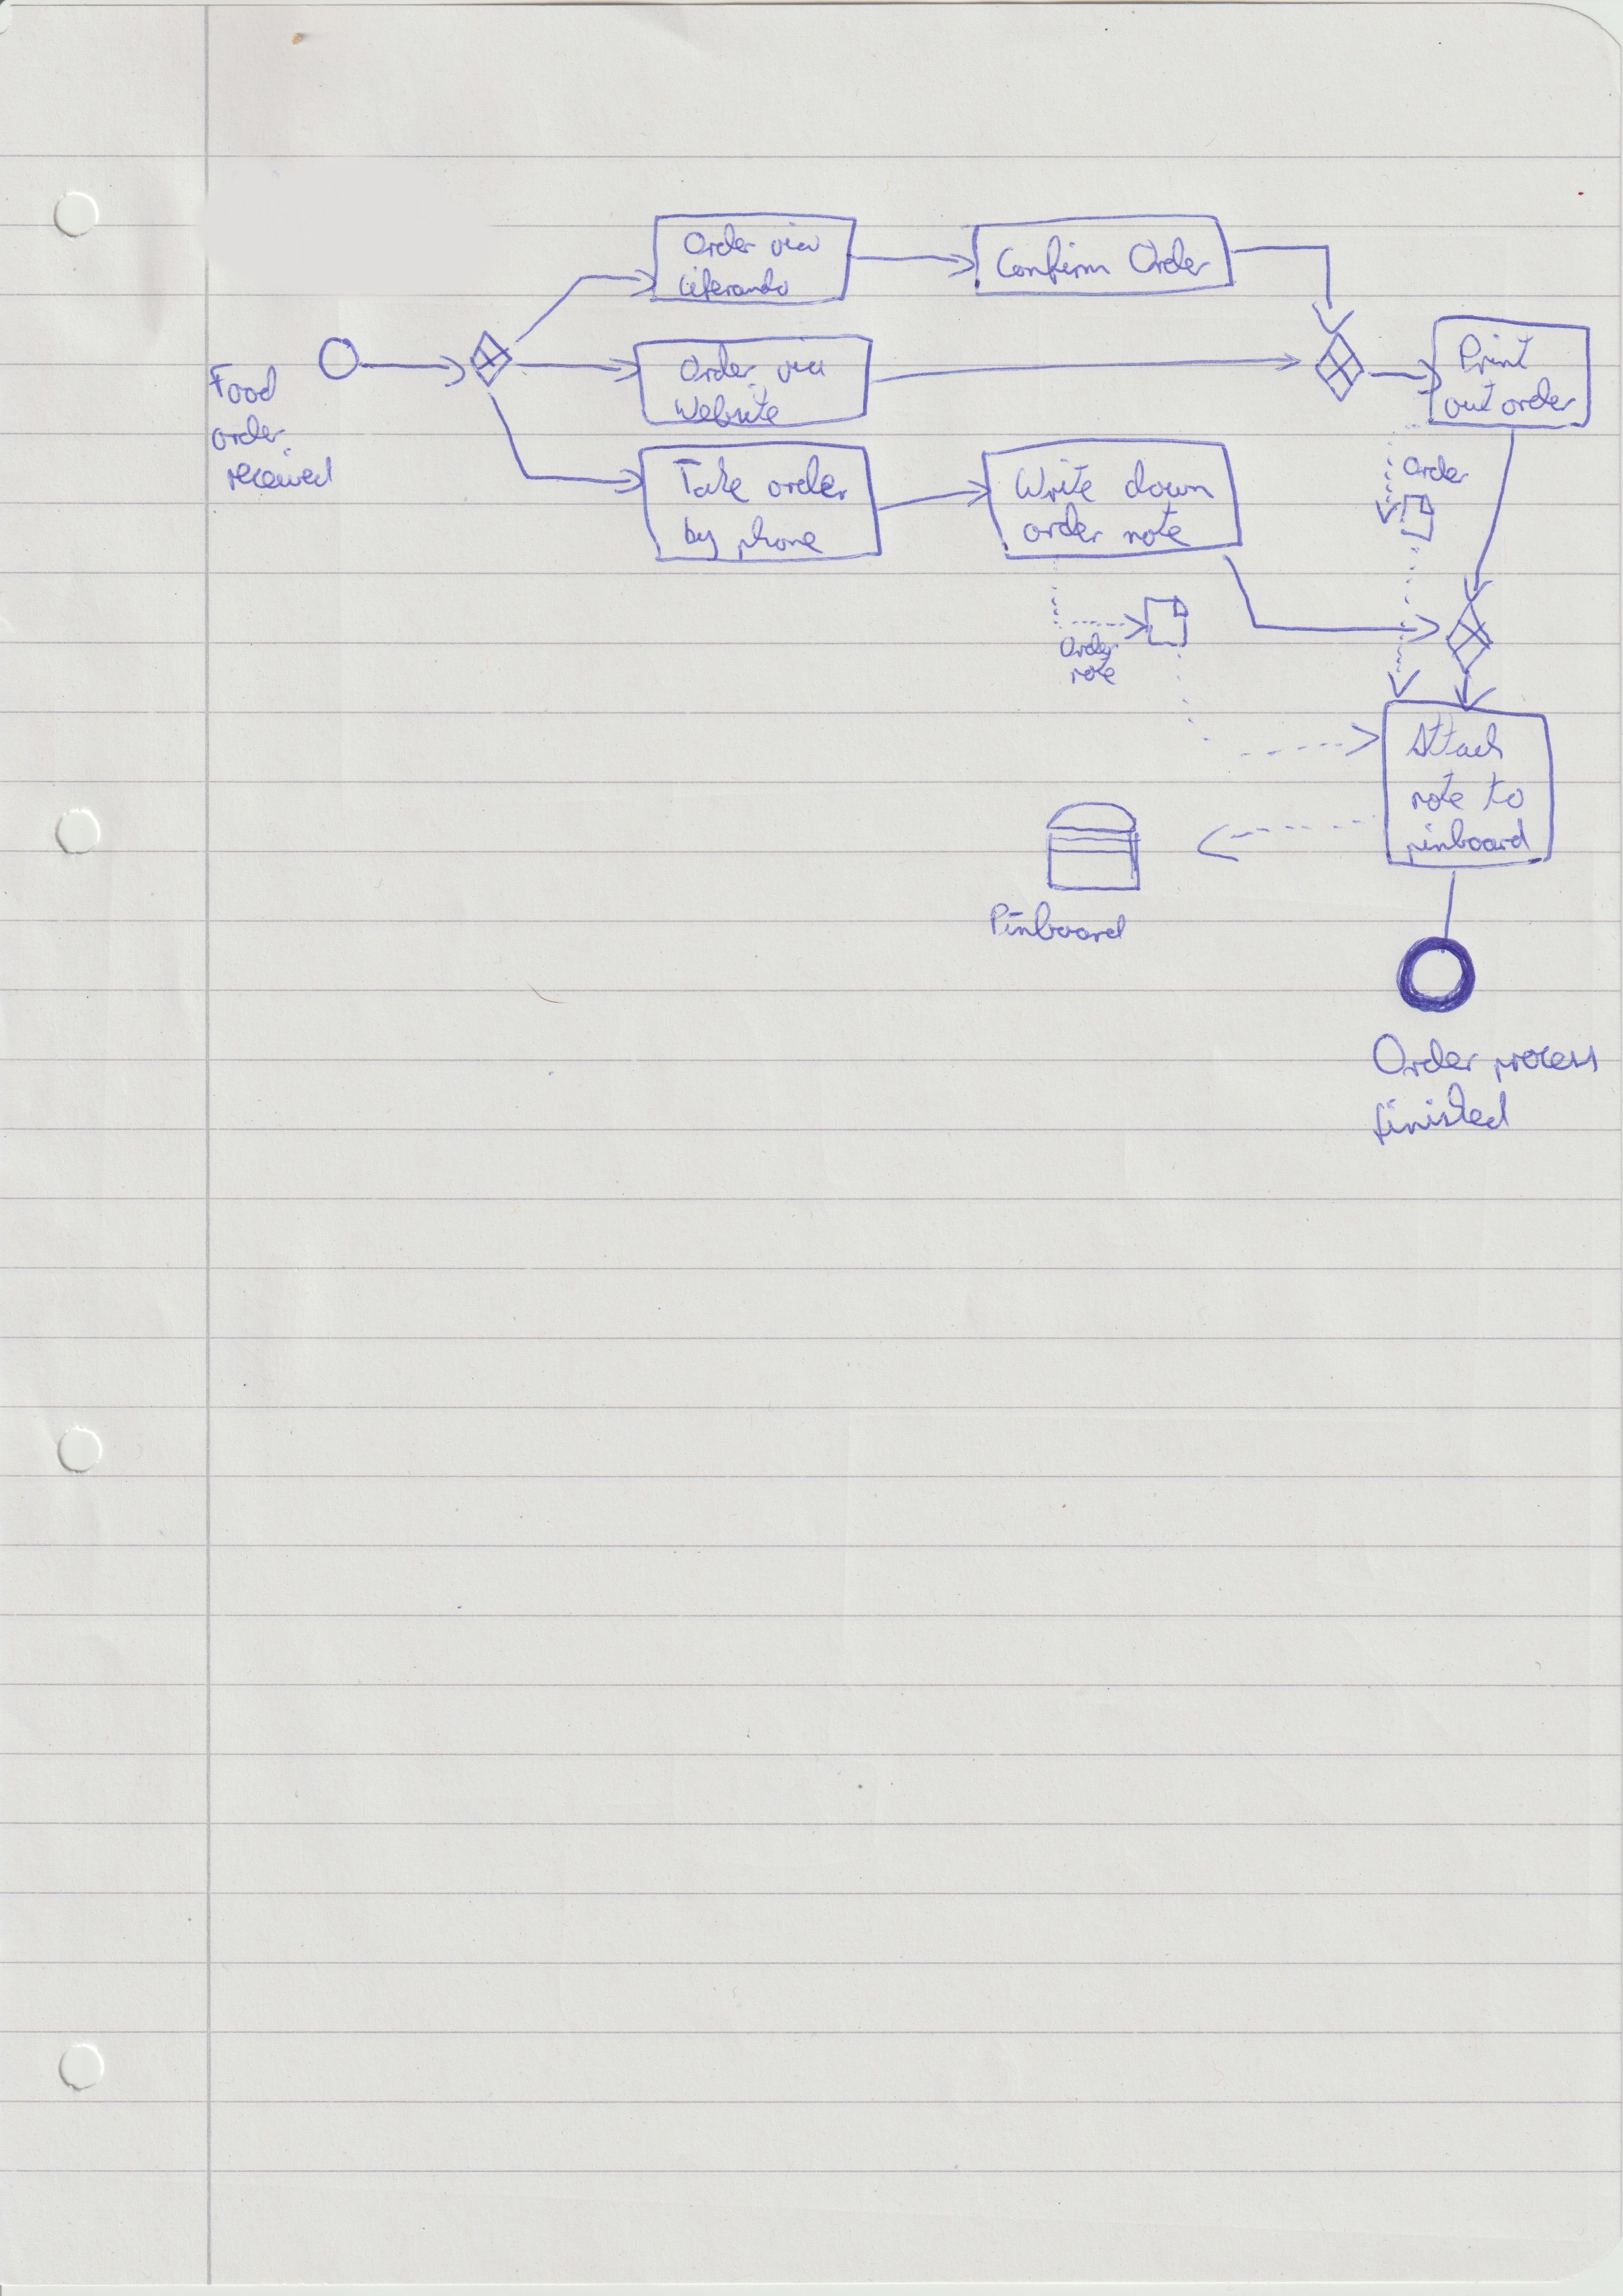Attach: (1405, 713, 1511, 766)
Confirm: (989, 232, 1122, 286)
Food: (202, 360, 285, 406)
Order: (1370, 1028, 1481, 1084), (1126, 234, 1214, 285), (682, 221, 759, 265), (678, 344, 762, 383), (1402, 451, 1472, 488), (1057, 631, 1121, 659)
Pinboard: (987, 898, 1128, 950)
Print: (1453, 334, 1539, 379)
Take: (673, 457, 755, 504)
by: (676, 518, 725, 560)
down: (1122, 460, 1217, 506)
finished: (1367, 1082, 1514, 1149)
lieferando: (669, 264, 794, 300)
note: (1122, 502, 1191, 552), (1405, 771, 1475, 813), (1066, 655, 1117, 685)
order: (764, 451, 855, 506), (1022, 504, 1108, 550), (1497, 378, 1581, 420), (211, 416, 288, 448)
out: (1444, 378, 1497, 422)
phone: (732, 511, 827, 560)
pinboard: (1403, 817, 1533, 861)
process: (1486, 1035, 1607, 1086)
received: (223, 448, 339, 495)
to: (1482, 771, 1528, 817)
via: (764, 221, 824, 256), (775, 355, 831, 386)
website: (671, 381, 782, 423)
write: (1012, 458, 1107, 506)
